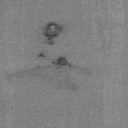iron sheet ash: (43, 21, 64, 46), (52, 56, 72, 67), (37, 51, 44, 58)
